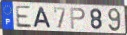7: (53, 7, 67, 30)
8: (90, 8, 104, 31)
9: (107, 7, 122, 32)
A: (33, 7, 53, 29)
E: (15, 5, 33, 29)
P: (69, 7, 86, 31)
